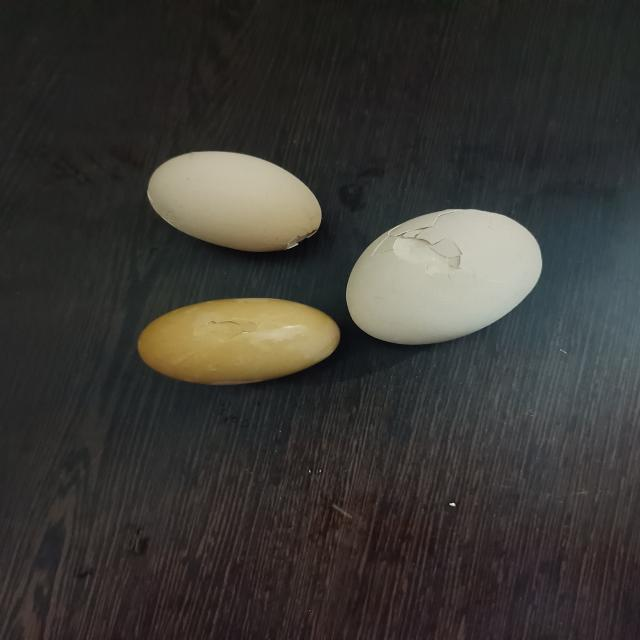biodegradable: (342, 206, 545, 346), (132, 294, 342, 388), (144, 150, 332, 252)
